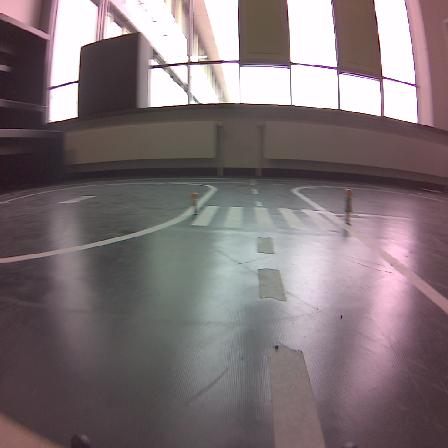CHILD: (190, 193, 199, 216)
PERSON: (345, 189, 352, 224)
